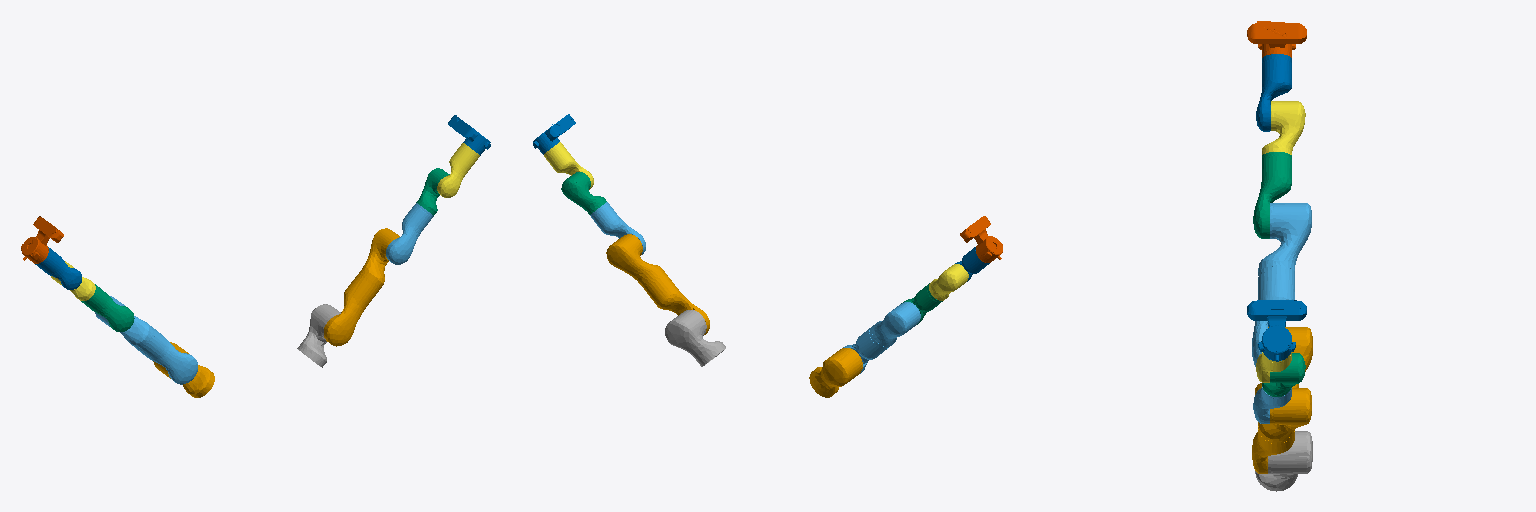
--- Render facts (derived) ---
The picture shows the robot from 3 angles, left to right: view 1: azimuth 30°, elevation 25°; view 2: azimuth 150°, elevation 25°; view 3: azimuth 270°, elevation 25°; orthographic projection.
Robot: overseas_65_b_v_description — 22 links, 21 joints (14 revolute, 1 prismatic, 6 fixed); root link base_link_underpan; default pose: all joints at 0.
Links seen in each view (by area): view 1: l_link2, r_link2, l_link3, l_link1, r_link3, l_link5, r_link6, r_link5, r_link1, l_link4, l_link6; view 2: l_link2, r_link2, l_link1, r_link1, r_link6, l_link4, l_link3, r_link4, l_link5, l_link6; view 3: r_link2, l_link2, l_link6, r_link3, l_link1, r_link5, r_link6, r_link4, l_link4, l_link3, r_link1, l_link5.
Link boxes in pixels (bbox=[...]): l_link2: bbox=[324, 228, 399, 346]; r_link2: bbox=[95, 296, 197, 384]; l_link3: bbox=[386, 203, 433, 264]; l_link1: bbox=[297, 304, 340, 367]; r_link3: bbox=[81, 284, 134, 331]; l_link5: bbox=[437, 143, 479, 197]; r_link6: bbox=[21, 216, 63, 263]; r_link5: bbox=[35, 247, 81, 289]; r_link1: bbox=[153, 342, 214, 397]; l_link4: bbox=[416, 168, 449, 215]; l_link6: bbox=[448, 115, 490, 155]; l_link2: bbox=[606, 234, 709, 334]; r_link2: bbox=[843, 302, 920, 373]; l_link1: bbox=[665, 310, 725, 366]; r_link1: bbox=[809, 348, 862, 397]; r_link6: bbox=[960, 216, 1002, 262]; l_link4: bbox=[561, 172, 606, 214]; l_link3: bbox=[590, 202, 645, 254]; r_link4: bbox=[929, 264, 968, 300]; l_link5: bbox=[544, 142, 593, 189]; l_link6: bbox=[533, 114, 575, 154]; r_link2: bbox=[1252, 203, 1311, 366]; l_link2: bbox=[1252, 388, 1311, 473]; l_link6: bbox=[1247, 300, 1306, 361]; r_link3: bbox=[1253, 152, 1291, 238]; l_link1: bbox=[1255, 431, 1312, 491]; r_link5: bbox=[1256, 54, 1291, 131]; r_link6: bbox=[1247, 21, 1306, 57]; r_link4: bbox=[1262, 101, 1305, 154]; l_link4: bbox=[1262, 353, 1305, 396]; l_link3: bbox=[1253, 387, 1291, 423]; r_link1: bbox=[1255, 327, 1312, 394]; l_link5: bbox=[1256, 352, 1291, 382].
Bounding box of the posed robot: 1.39 × 0.124 × 0.6018 m (x, y, z).
12 mesh visuals loaded from 21 distinct referenced files (12 binary STL); not drawn: 10 (reference not matched to a file when rendering).

robot.urdf — overseas_65_b_v_description:
<?xml version="1.0" encoding="utf-8"?>
<!-- This URDF was automatically created by SolidWorks to URDF Exporter! Originally created by Stephen Brawner ([email redacted]) 
     Commit Version: 1.6.0-4-g7f85cfe  Build Version: 1.6.7995.38578
     For more information, please see http://wiki.ros.org/sw_urdf_exporter -->
<robot
  name="overseas_65_b_v_description">
  <link
    name="base_link_underpan">
    <inertial>
      <origin
        xyz="-0.012628 -0.016092 -0.060646"
        rpy="0 0 0" />
      <mass
        value="2.5521" />
      <inertia
        ixx="0.066197"
        ixy="7.0297E-05"
        ixz="0.00017628"
        iyy="0.034903"
        iyz="-0.00059595"
        izz="0.097938" />
    </inertial>
    <visual>
      <origin
        xyz="0 0 0"
        rpy="0 0 0" />
      <geometry>
        <mesh
          filename="meshes/base_link_underpan.STL" />
      </geometry>
      
    </visual>
    <collision>
      <origin
        xyz="0 0 0"
        rpy="0 0 0" />
      <geometry>
        <mesh
          filename="meshes/base_link_underpan.STL" />
      </geometry>
    </collision>
  </link>

  <link
    name="body_base_link">
    <inertial>
      <origin
        xyz="-0.0002128 -0.02749 0.37118"
        rpy="0 0 0" />
      <mass
        value="12.159" />
      <inertia
        ixx="0.69175"
        ixy="3.0303E-06"
        ixz="-1.7947E-05"
        iyy="0.68839"
        iyz="0.012363"
        izz="0.15316" />
    </inertial>
    <visual>
      <origin
        xyz="0 0 0"
        rpy="0 0 0" />
      <geometry>
        <mesh
          filename="meshes/body_base_link.STL" />
      </geometry>

    </visual>
    <collision>
      <origin
        xyz="0 0 0"
        rpy="0 0 0" />
      <geometry>
        <mesh
          filename="meshes/body_base_link.STL" />
      </geometry>
    </collision>
  </link>
  
  
  
  
  
  <joint
    name="body_base_joint"
    type="fixed">
    <origin
      xyz="0 0 0"
      rpy="0 0 0" />
    <parent
      link="base_link_underpan" />
    <child
      link="body_base_link" />
    <axis
      xyz="1 0 0" />
    <limit
      effort="0"
      velocity="0" />
  </joint>  
  
  
  
  
  
  
  
  
  <link
    name="platform_base_link">
    <inertial>
      <origin
        xyz="-4.8033E-05 -0.05292 0.00070789"
        rpy="0 0 0" />
      <mass
        value="2.8992" />
      <inertia
        ixx="0.013327"
        ixy="3.14E-06"
        ixz="3.5257E-06"
        iyy="0.032331"
        iyz="6.163E-05"
        izz="0.021546" />
    </inertial>
    <visual>
      <origin
        xyz="0 0 0"
        rpy="0 0 0" />
      <geometry>
        <mesh
          filename="meshes/platform_base_link.STL" />
      </geometry>

    </visual>
    <collision>
      <origin
        xyz="0 0 0"
        rpy="0 0 0" />
      <geometry>
        <mesh
          filename="meshes/platform_base_link.STL" />
      </geometry>
    </collision>
  </link>
  <joint
    name="platform_joint"
    type="prismatic">
    <origin
      xyz="0 -0.11663 1.271"
      rpy="0 0 0" />
    <parent
      link="body_base_link" />
    <child
      link="platform_base_link" />
    <axis
      xyz="0 0 -1" />
    <limit
      lower="0"
      upper="1"
      effort="60"
      velocity="0.15" />
  </joint>
  <link
    name="head_link1">
    <inertial>
      <origin
        xyz="-0.00017562 -0.015989 0.024926"
        rpy="0 0 0" />
      <mass
        value="0.049513" />
      <inertia
        ixx="1.6251E-05"
        ixy="-4.4281E-09"
        ixz="7.808E-08"
        iyy="2.2171E-05"
        iyz="-4.661E-07"
        izz="1.3605E-05" />
    </inertial>
    <visual>
      <origin
        xyz="0 0 0"
        rpy="0 0 0" />
      <geometry>
        <mesh
          filename="meshes/head_link1.STL" />
      </geometry>

    </visual>
    <collision>
      <origin
        xyz="0 0 0"
        rpy="0 0 0" />
      <geometry>
        <mesh
          filename="meshes/head_link1.STL" />
      </geometry>
    </collision>
  </link>
  <joint
    name="head_joint1"
    type="revolute">
    <origin
      xyz="0 -0.1018 0.126"
      rpy="0 0 0" />
    <parent
      link="platform_base_link" />
    <child
      link="head_link1" />
    <axis
      xyz="0 0 1" />
    <limit
      lower="-1.256"
      upper="1.256"
      effort="2"
      velocity="1.57" />
  </joint>
  <link
    name="head_link2">
    <inertial>
      <origin
        xyz="-0.00051349 -0.027144 0.0551"
        rpy="0 0 0" />
      <mass
        value="0.23639" />
      <inertia
        ixx="0.00025664"
        ixy="-1.6537E-08"
        ixz="1.3993E-07"
        iyy="0.0005615"
        iyz="1.8036E-05"
        izz="0.00052625" />
    </inertial>
    <visual>
      <origin
        xyz="0 0 0"
        rpy="0 0 0" />
      <geometry>
        <mesh
          filename="meshes/head_link2.STL" />
      </geometry>

    </visual>
    <collision>
      <origin
        xyz="0 0 0"
        rpy="0 0 0" />
      <geometry>
        <mesh
          filename="meshes/head_link2.STL" />
      </geometry>
    </collision>
  </link>
  <joint
    name="head_joint2"
    type="revolute">
    <origin
      xyz="0 -0.02 0.044"
      rpy="0 0 0" />
    <parent
      link="head_link1" />
    <child
      link="head_link2" />
    <axis
      xyz="-1 0 0" />
    <limit
      lower="-0.419"
      upper="0.419"
      effort="2"
      velocity="1.57" />
  </joint>
  <link
    name="camera_link">
    <inertial>
      <origin
        xyz="0.0016556 -0.01252 1.2156E-05"
        rpy="0 0 0" />
      <mass
        value="0.049778" />
      <inertia
        ixx="4.8577E-06"
        ixy="4.3442E-07"
        ixz="-6.2436E-10"
        iyy="3.075E-05"
        iyz="6.4645E-10"
        izz="3.0901E-05" />
    </inertial>
    <visual>
      <origin
        xyz="0 0 0"
        rpy="0 0 0" />
      <geometry>
        <mesh
          filename="meshes/camera_link.STL" />
      </geometry>

    </visual>
    <collision>
      <origin
        xyz="0 0 0"
        rpy="0 0 0" />
      <geometry>
        <mesh
          filename="meshes/camera_link.STL" />
      </geometry>
    </collision>
  </link>
  <joint
    name="camera_joint"
    type="fixed">
    <origin
      xyz="-0.0032391 -0.051866 0.061606"
      rpy="0 0 0" />
    <parent
      link="head_link2" />
    <child
      link="camera_link" />
    <axis
      xyz="0 0 0" />
  </joint>
  <link
    name="l_base_link1">
    <inertial>
      <origin
        xyz="-3.58E-05 -0.0056915 0.024464"
        rpy="0 0 0" />
      <mass
        value="0.23441" />
      <inertia
        ixx="0.00027369"
        ixy="6.5702E-08"
        ixz="2.7812E-09"
        iyy="0.000264"
        iyz="-1.6355E-06"
        izz="0.00036679" />
    </inertial>
    <visual>
      <origin
        xyz="0 0 0"
        rpy="0 0 0" />
      <geometry>
        <mesh
          filename="meshes/l_base_link1.STL" />
      </geometry>

    </visual>
    <collision>
      <origin
        xyz="0 0 0"
        rpy="0 0 0" />
      <geometry>
        <mesh
          filename="meshes/l_base_link1.STL" />
      </geometry>
    </collision>
  </link>
  <joint
    name="l_base_joint1"
    type="fixed">
    <origin
      xyz="0.1 -0.1103 0.031645"
      rpy="0 -0.7854 3.1415" />
    <parent
      link="platform_base_link" />
    <child
      link="l_base_link1" />
    <axis
      xyz="0 0 0" />
  </joint>
  <link
    name="r_base_link1">
    <inertial>
      <origin
        xyz="-4.8022E-05 0.0056915 0.024715"
        rpy="0 0 0" />
      <mass
        value="0.23441" />
      <inertia
        ixx="0.00027369"
        ixy="6.5702E-08"
        ixz="-3.2599E-09"
        iyy="0.000264"
        iyz="1.6355E-06"
        izz="0.00036679" />
    </inertial>
    <visual>
      <origin
        xyz="0 0 0"
        rpy="0 0 0" />
      <geometry>
        <mesh
          filename="meshes/r_base_link1.STL" />
      </geometry>

    </visual>
    <collision>
      <origin
        xyz="0 0 0"
        rpy="0 0 0" />
      <geometry>
        <mesh
          filename="meshes/r_base_link1.STL" />
      </geometry>
    </collision>
  </link>
  <joint
    name="r_base_joint1"
    type="fixed">
    <origin
      xyz="-0.1 -0.1103 0.031645"
      rpy="0 -0.7854 0" />
    <parent
      link="platform_base_link" />
    <child
      link="r_base_link1" />
    <axis
      xyz="0 0 0" />
  </joint>  
  
  
  
  
  
  
 
  <link
    name="r_link1">
    <inertial>
      <origin
        xyz="-2.8998E-07 0.021107 -0.025188"
        rpy="0 0 0" />
      <mass
        value="0.59353" />
      <inertia
        ixx="0.0012661"
        ixy="-5.3526E-09"
        ixz="-2.0479E-09"
        iyy="0.0011816"
        iyz="-0.00021118"
        izz="0.00056131" />
    </inertial>
    <visual>
      <origin
        xyz="0 0 0"
        rpy="0 0 0" />
      <geometry>
        <mesh
          filename="meshes/r_link1.STL" />
      </geometry>

    </visual>
    <collision>
      <origin
        xyz="0 0 0"
        rpy="0 0 0" />
      <geometry>
        <mesh
          filename="meshes/r_link1.STL" />
      </geometry>
    </collision>
  </link>
  <joint
    name="r_joint1"
    type="revolute">
    <origin
      xyz="0 0 0.187"
      rpy="0 0 0" />
    <parent
      link="r_base_link1" />
    <child
      link="r_link1" />
    <axis
      xyz="0 0 1" />
    <limit
      lower="-3.11"
      upper="3.11"
      effort="60"
      velocity="3.14" />
  </joint>
  <link
    name="r_link2">
    <inertial>
      <origin
        xyz="0.15226 2.505E-07 -0.0062027"
        rpy="0 0 0" />
      <mass
        value="0.86416" />
      <inertia
        ixx="0.00063253"
        ixy="1.9052E-09"
        ixz="0.00042162"
        iyy="0.0020527"
        iyz="3.5874E-09"
        izz="0.0019528" />
    </inertial>
    <visual>
      <origin
        xyz="0 0 0"
        rpy="0 0 0" />
      <geometry>
        <mesh
          filename="meshes/r_link2.STL" />
      </geometry>

    </visual>
    <collision>
      <origin
        xyz="0 0 0"
        rpy="0 0 0" />
      <geometry>
        <mesh
          filename="meshes/r_link2.STL" />
      </geometry>
    </collision>
  </link>
  <joint
    name="r_joint2"
    type="revolute">
    <origin
      xyz="0 0 0"
      rpy="1.5708 -1.5708 0" />
    <parent
      link="r_link1" />
    <child
      link="r_link2" />
    <axis
      xyz="0 0 1" />
    <limit
      lower="-2.27"
      upper="2.27"
      effort="60"
      velocity="3.14" />
  </joint>
  <link
    name="r_link3">
    <inertial>
      <origin
        xyz="4.7421E-06 -0.059592 0.010268"
        rpy="0 0 0" />
      <mass
        value="0.28963" />
      <inertia
        ixx="0.00063737"
        ixy="-6.2554E-08"
        ixz="-3.5031E-08"
        iyy="0.00015649"
        iyz="-0.00014461"
        izz="0.00061418" />
    </inertial>
    <visual>
      <origin
        xyz="0 0 0"
        rpy="0 0 0" />
      <geometry>
        <mesh
          filename="meshes/r_link3.STL" />
      </geometry>

    </visual>
    <collision>
      <origin
        xyz="0 0 0"
        rpy="0 0 0" />
      <geometry>
        <mesh
          filename="meshes/r_link3.STL" />
      </geometry>
    </collision>
  </link>
  <joint
    name="r_joint3"
    type="revolute">
    <origin
      xyz="0.256 0 0"
      rpy="0 0 1.5708" />
    <parent
      link="r_link2" />
    <child
      link="r_link3" />
    <axis
      xyz="0 0 1" />
    <limit
      lower="-2.36"
      upper="2.36"
      effort="30"
      velocity="3.925" />
  </joint>
  <link
    name="r_link4">
    <inertial>
      <origin
        xyz="2.9088E-07 -0.018042 -0.02154"
        rpy="0 0 0" />
      <mass
        value="0.23942" />
      <inertia
        ixx="0.00028595"
        ixy="-2.3541E-09"
        ixz="1.386E-09"
        iyy="0.00026273"
        iyz="4.424E-05"
        izz="0.0001199" />
    </inertial>
    <visual>
      <origin
        xyz="0 0 0"
        rpy="0 0 0" />
      <geometry>
        <mesh
          filename="meshes/r_link4.STL" />
      </geometry>

    </visual>
    <collision>
      <origin
        xyz="0 0 0"
        rpy="0 0 0" />
      <geometry>
        <mesh
          filename="meshes/r_link4.STL" />
      </geometry>
    </collision>
  </link>
  <joint
    name="r_joint4"
    type="revolute">
    <origin
      xyz="0 -0.21 -0.00030007"
      rpy="1.5708 0 0" />
    <parent
      link="r_link3" />
    <child
      link="r_link4" />
    <axis
      xyz="0 0 1" />
    <limit
      lower="-3.11"
      upper="3.11"
      effort="10"
      velocity="3.925" />
  </joint>
  <link
    name="r_link5">
    <inertial>
      <origin
        xyz="4.2478E-06 -0.059381 0.007067"
        rpy="0 0 0" />
      <mass
        value="0.21879" />
      <inertia
        ixx="0.00035053"
        ixy="-2.8579E-08"
        ixz="-1.655E-08"
        iyy="0.00010492"
        iyz="-7.824E-05"
        izz="0.00033447" />
    </inertial>
    <visual>
      <origin
        xyz="0 0 0"
        rpy="0 0 0" />
      <geometry>
        <mesh
          filename="meshes/r_link5.STL" />
      </geometry>

    </visual>
    <collision>
      <origin
        xyz="0 0 0"
        rpy="0 0 0" />
      <geometry>
        <mesh
          filename="meshes/r_link5.STL" />
      </geometry>
    </collision>
  </link>
  <joint
    name="r_joint5"
    type="revolute">
    <origin
      xyz="0 0 0"
      rpy="-1.5708 0 0" />
    <parent
      link="r_link4" />
    <child
      link="r_link5" />
    <axis
      xyz="0 0 1" />
    <limit
      lower="-2.23"
      upper="2.23"
      effort="10"
      velocity="3.925" />
  </joint>
  <link
    name="r_link6">
    <inertial>
      <origin
        xyz="-0.028764 5.1464E-06 0.02806"
        rpy="0 0 0" />
      <mass
        value="0.22147" />
      <inertia
        ixx="0.0001376"
        ixy="-5.7488E-08"
        ixz="1.6634E-05"
        iyy="0.00026855"
        iyz="-1.7799E-08"
        izz="0.00035277" />
    </inertial>
    <visual>
      <origin
        xyz="0 0 0"
        rpy="0 0 0" />
      <geometry>
        <mesh
          filename="meshes/r_link6.STL" />
      </geometry>

    </visual>
    <collision>
      <origin
        xyz="0 0 0"
        rpy="0 0 0" />
      <geometry>
        <mesh
          filename="meshes/r_link6.STL" />
      </geometry>
    </collision>
  </link>
  <joint
    name="r_joint6"
    type="revolute">
    <origin
      xyz="0 -0.11203 -0.00029971"
      rpy="1.5708 0 0" />
    <parent
      link="r_link5" />
    <child
      link="r_link6" />
    <axis
      xyz="0 0 1" />
    <limit
      lower="-6.28"
      upper="6.28"
      effort="10"
      velocity="3.925" />
  </joint>


  <joint
    name="r_hand_joint"
    type="fixed">
    <origin
      xyz="0 0 0.0445"
      rpy="0 0 0" />
    <parent
      link="r_link6" />
    <child
      link="r_gripper_base_link" />
    <axis
      xyz="0 0 -1" />
    <limit
      lower="0"
      upper="0"
      effort="0"
      velocity="0" />
  </joint>  
  
  <link name="r_gripper_base_link">
    <visual>
        <geometry>
          <mesh filename="visual/base_link.STL"  scale = "0.001 0.001 0.001"/>
        </geometry>
    </visual>
    <collision>
        <geometry>
            <mesh filename="visual/base_link.STL"  scale = "0.001 0.001 0.001"/>
        </geometry>
    </collision>
        <inertial>
          <mass value="0.83416" />
            <origin xyz="0.0 0.0 0.0" />
              <inertia ixx = "0.0013016" ixy = "-6.9374e-07" ixz = "5.9848e-07"
                       iyx = "0.000000" iyy = "0.00049972" iyz = "2.0244E-07"
                       izx = "0.000000" izy = "0.000000" izz = "0.001498" />
       </inertial>
    </link>
  <!-- <joint name="r_gripper_finger1_joint" type="revolute">
    <parent link="r_gripper_base_link"/>
    <child link="r_gripper_finger1_knuckle_link"/>
      <axis xyz="0 -1 0"/>
      <origin rpy="0.0 0.0 3.14" xyz="-0.016 0 0.10586"/>
      <limit lower="0.0" upper="0.6524" velocity="2.0" effort="1000"/>
  </joint>
  <joint name="r_gripper_finger2_joint" type="revolute">
    <parent link="r_gripper_base_link"/>
    <child link="r_gripper_finger2_knuckle_link"/>
    <axis xyz="0 -1 0"/>
    <origin rpy="0.0 0.0 0.0" xyz="0.016  0 0.10586 "/>
    <limit lower="-3.14" upper="3.14" velocity="100.0" effort="1000"/>
    <mimic joint="r_gripper_finger1_joint"/>
  </joint>
  <link name="r_gripper_finger1_knuckle_link">
            <visual>
                <geometry>
                    <mesh filename="visual/crank_Link.STL"  scale = "0.001 0.001 0.001"/>
                </geometry>
            </visual>
            <collision>
                <geometry>
                    <mesh filename="visual/crank_Link.STL"  scale = "0.001 0.001 0.001"/>
                </geometry>
            </collision>
            <inertial>
                <mass value="0.011111" />
                <origin xyz="0.0 0.0 0.0" />
                <inertia ixx = "3.88172e-06" ixy = "-2.29456e-13" ixz = "8.33e-07"
                         iyx = "0.000000" iyy = "1.92174e-06" iyz = "2.04435e-13"
                         izx = "0.000000" izy = "0.000000" izz = "4.32374e-06" />
            </inertial>
        </link>
  <link name="r_gripper_finger2_knuckle_link">
            <visual>
                <geometry>
                    <mesh filename="visual/crank_Link.STL"  scale = "0.001 0.001 0.001"/>
                </geometry>
            </visual>
            <collision>
                <geometry>
                    <mesh filename="visual/crank_Link.STL"  scale = "0.001 0.001 0.001"/>
                </geometry>
            </collision>
            <inertial>
                <mass value="0.011111" />
                <origin xyz="0.0 0.0 0.0" />
                <inertia ixx = "3.88172e-06" ixy = "-2.29456e-13" ixz = "8.33e-07"
                         iyx = "0.000000" iyy = "1.92174e-06" iyz = "2.04435e-13"
                         izx = "0.000000" izy = "0.000000" izz = "4.32374e-06" />
            </inertial>
        </link>
        <joint name="r_gripper_finger1_finger_joint" type="continuous">
            <parent link="r_gripper_finger1_knuckle_link"/>
            <child link="r_gripper_finger1_finger_link"/>
            <axis xyz="0 -1 0"/>
            <origin xyz="0.0292080077784 0.0 -0.0227132622407" rpy="0 0 0" />
            <limit lower="-3.14" upper="3.14" velocity="100.0" effort="0.1"/>
            <mimic joint="r_gripper_finger1_joint" multiplier="0.4563942" offset="0"/>
        </joint>

        <joint name="r_gripper_finger2_finger_joint" type="continuous">
            <parent link="r_gripper_finger2_knuckle_link"/>
            <child link="r_gripper_finger2_finger_link"/>
            <axis xyz="0 -1 0"/>
            <origin xyz="0.0292080077784 0.0 -0.0227132622407" rpy="0 0 0" />
            <limit lower="-3.14" upper="3.14" velocity="100.0" effort="0.1"/>
            <mimic joint="r_gripper_finger1_joint" multiplier="0.4563942" offset="0"/>
        </joint>
  <link name="r_gripper_finger1_finger_link">
            <visual>
                <geometry>
                    <mesh filename="visual/rod_Link.STL"  scale = "0.001 0.001 0.001"/>
                </geometry>
            </visual>
            <collision>
                <geometry>
                    <mesh filename="visual/rod_Link.STL"  scale = "0.001 0.001 0.001"/>
                </geometry>
            </collision>
            <inertial>
                <mass value="0.0222871" />
                <origin xyz="0.0 0.0 0.0" />
                <inertia ixx = "8.72836e-06" ixy = "7.0843e-15" ixz = "-2.18833e-06"
                         iyx = "-0.000002" iyy = "7.26157e-06" iyz = "7.6579e-15"
                         izx = "0.000000" izy = "0.000000" izz = "3.3425e-06" />
            </inertial>
        </link>
  <link name="r_gripper_finger2_finger_link">
<visual>
                <geometry>
                    <mesh filename="visual/rod_Link.STL"  scale = "0.001 0.001 0.001"/>
                </geometry>
            </visual>
            <collision>
                <geometry>
                    <mesh filename="visual/rod_Link.STL"  scale = "0.001 0.001 0.001"/>
                </geometry>
            </collision>
            <inertial>
                <mass value="0.0222871" />
                <origin xyz="0.0 0.0 0.0" />
                <inertia ixx = "8.72836e-06" ixy = "7.0843e-15" ixz = "-2.18833e-06"
                         iyx = "-0.000002" iyy = "7.26157e-06" iyz = "7.6579e-15"
                         izx = "0.000000" izy = "0.000000" izz = "3.3425e-06" />
            </inertial>
        </link>

  <joint name="r_gripper_finger1_inner_knuckle_joint" type="continuous">
    <parent link="r_gripper_base_link"/>
    <child link="r_gripper_finger1_inner_knuckle_link"/>
            <axis xyz="0 -1 0"/>
            <origin rpy="0.0 0.0 3.14" xyz="-0.016 0 0.10586"/>
            <limit lower="-3.14" upper="3.14" velocity="100.0" effort="0.1"/>
            <mimic joint="r_gripper_finger1_joint" multiplier="1.49462955"  offset="0"/>
 </joint>
  <joint name="r_gripper_finger2_inner_knuckle_joint" type="continuous">
    <parent link="r_gripper_base_link"/>
    <child link="r_gripper_finger2_inner_knuckle_link"/>
            <axis xyz="0 -1 0"/>
            <origin rpy="0.0 0.0 0.0" xyz="0.016 0 0.10586"/>
            <limit lower="-3.14" upper="3.14" velocity="100.0" effort="0.1"/>
            <mimic joint="r_gripper_finger1_joint" multiplier="1.49462955"  offset="0"/>
  </joint>
     <link name="r_gripper_finger1_inner_knuckle_link">
            <visual>
                <geometry>
                    <mesh filename="visual/proximal_phalanx_Link.STL"  scale = "0.001 0.001 0.001"/>
                </geometry>
            </visual>
            <collision>
                <geometry>
                    <mesh filename="visual/proximal_phalanx_Link.STL"  scale = "0.001 0.001 0.001"/>
                </geometry>
            </collision>
            <inertial>
                <mass value="0.0318004" />
                <origin xyz="0.0 0.0 0.0" />
                <inertia ixx = "1.39848e-05" ixy = "-9.54763e-15" ixz = "-5.01422e-06"
                         iyx = "0.000000" iyy = "1.04943e-05" iyz = "8.94585e-16"
                         izx = "0.000000" izy = "0.000000" izz = "1.36183e-05" />
            </inertial>
      </link>
<link name="r_gripper_finger2_inner_knuckle_link">
            <visual>
                <geometry>
                    <mesh filename="visual/proximal_phalanx_Link.STL"  scale = "0.001 0.001 0.001"/>
                </geometry>
            </visual>
            <collision>
                <geometry>
                    <mesh filename="visual/proximal_phalanx_Link.STL"  scale = "0.001 0.001 0.001"/>
                </geometry>
            </collision>
            <inertial>
                <mass value="0.0318004" />
                <origin xyz="0.0 0.0 0.0" />
                <inertia ixx = "1.39848e-05" ixy = "-9.54763e-15" ixz = "-5.01422e-06"
                         iyx = "0.000000" iyy = "1.04943e-05" iyz = "8.94585e-16"
                         izx = "0.000000" izy = "0.000000" izz = "1.36183e-05" />
            </inertial>
        </link>
<joint name="r_gripper_finger1_finger_tip_joint" type="continuous">
    <parent link="r_gripper_finger1_inner_knuckle_link"/>
    <child link="r_gripper_finger1_finger_tip_link"/>
            <axis xyz="0 1 0"/>
            <origin xyz="0.0394969463769 0.0 0.0382752038125 " rpy="0.0 0.0 0.0"/>
            <limit lower="-3.14" upper="3.14" velocity="100.0" effort="0.1"/>
            <mimic joint="r_gripper_finger1_joint" multiplier="1.49462955"/>
        </joint>
  <joint name="r_gripper_finger2_finger_tip_joint" type="continuous">
    <parent link="r_gripper_finger2_inner_knuckle_link"/>
    <child link="r_gripper_finger2_finger_tip_link"/>
            <axis xyz="0 1 0"/>
            <origin rpy="0.0 0.0 0.0" xyz="0.0394969463769  0.0 0.0382752038125  "/>
            <limit lower="-3.14" upper="3.14" velocity="100.0" effort="0.1"/>
            <mimic joint="l_gripper_finger1_joint" multiplier="1.49462955"/>
  </joint>
  <link name="r_gripper_finger1_finger_tip_link">
            <visual>
                <geometry>
                    <mesh filename="visual/distal_phalanx_Link.STL"  scale = "0.001 0.001 0.001"/>
                </geometry>
            </visual>
            <collision>
                <geometry>
                    <mesh filename="visual/distal_phalanx_Link.STL"  scale = "0.001 0.001 0.001"/>
                </geometry>
            </collision>
            <inertial>
                <mass value="0.0124305" />
                <origin xyz="0.0 0.0 0.0" />
                <inertia ixx = "2.84217e-06" ixy = "-2.48048e-15" ixz = "8.24539e-07"
                         iyx = "0.000000" iyy = "3.03961e-06" iyz = "2.16427e-13"
                         izx = "0.000000" izy = "0.000000" izz = "1.11815e-06" />
            </inertial>
        </link> 
  <link name="r_gripper_finger2_finger_tip_link">
            <visual>
                <geometry>
                    <mesh filename="visual/distal_phalanx_Link.STL"  scale = "0.001 0.001 0.001"/>
                </geometry>
            </visual>
            <collision>
                <geometry>
                    <mesh filename="visual/distal_phalanx_Link.STL"  scale = "0.001 0.001 0.001"/>
                </geometry>
            </collision>
            <inertial>
                <mass value="0.0124305" />
                <origin xyz="0.0 0.0 0.0" />
                <inertia ixx = "2.84217e-06" ixy = "-2.48048e-15" ixz = "8.24539e-07"
                         iyx = "0.000000" iyy = "3.03961e-06" iyz = "2.16427e-13"
                         izx = "0.000000" izy = "0.000000" izz = "1.11815e-06" />
            </inertial>
        </link>  -->
  
 
  <link
    name="l_link1">
    <inertial>
      <origin
        xyz="-2.9675E-07 0.021107 -0.025188"
        rpy="0 0 0" />
      <mass
        value="0.59353" />
      <inertia
        ixx="0.0012661"
        ixy="-5.363E-09"
        ixz="-2.109E-09"
        iyy="0.0011816"
        iyz="-0.00021118"
        izz="0.00056131" />
    </inertial>
    <visual>
      <origin
        xyz="0 0 0"
        rpy="0 0 0" />
      <geometry>
        <mesh
          filename="meshes/l_link1.STL" />
      </geometry>

    </visual>
    <collision>
      <origin
        xyz="0 0 0"
        rpy="0 0 0" />
      <geometry>
        <mesh
          filename="meshes/l_link1.STL" />
      </geometry>
    </collision>
  </link>
  <joint
    name="l_joint1"
    type="revolute">
    <origin
      xyz="0 0 0.187"
      rpy="0 0 3.1415" />
    <parent
      link="l_base_link1" />
    <child
      link="l_link1" />
    <axis
      xyz="0 0 1" />
    <limit
      lower="-3.11"
      upper="3.11"
      effort="60"
      velocity="3.14" />
  </joint>
  <link
    name="l_link2">
    <inertial>
      <origin
        xyz="0.15226 2.3916E-07 -0.0062027"
        rpy="0 0 0" />
      <mass
        value="0.86416" />
      <inertia
        ixx="0.00063253"
        ixy="2.0103E-09"
        ixz="0.00042162"
        iyy="0.0020527"
        iyz="3.5857E-09"
        izz="0.0019528" />
    </inertial>
    <visual>
      <origin
        xyz="0 0 0"
        rpy="0 0 0" />
      <geometry>
        <mesh
          filename="meshes/l_link2.STL" />
      </geometry>

    </visual>
    <collision>
      <origin
        xyz="0 0 0"
        rpy="0 0 0" />
      <geometry>
        <mesh
          filename="meshes/l_link2.STL" />
      </geometry>
    </collision>
  </link>
  <joint
    name="l_joint2"
    type="revolute">
    <origin
      xyz="0 0 0"
      rpy="1.5708 -1.5708 0" />
    <parent
      link="l_link1" />
    <child
      link="l_link2" />
    <axis
      xyz="0 0 1" />
    <limit
      lower="-2.27"
      upper="2.27"
      effort="60"
      velocity="3.14" />
  </joint>
  <link
    name="l_link3">
    <inertial>
      <origin
        xyz="4.7194E-06 -0.059592 0.010268"
        rpy="0 0 0" />
      <mass
        value="0.28963" />
      <inertia
        ixx="0.00063737"
        ixy="-6.2601E-08"
        ixz="-3.5046E-08"
        iyy="0.00015649"
        iyz="-0.00014461"
        izz="0.00061418" />
    </inertial>
    <visual>
      <origin
        xyz="0 0 0"
        rpy="0 0 0" />
      <geometry>
        <mesh
          filename="meshes/l_link3.STL" />
      </geometry>

    </visual>
    <collision>
      <origin
        xyz="0 0 0"
        rpy="0 0 0" />
      <geometry>
        <mesh
          filename="meshes/l_link3.STL" />
      </geometry>
    </collision>
  </link>
  <joint
    name="l_joint3"
    type="revolute">
    <origin
      xyz="0.256 0 0"
      rpy="0 0 1.5708" />
    <parent
      link="l_link2" />
    <child
      link="l_link3" />
    <axis
      xyz="0 0 1" />
    <limit
      lower="-2.36"
      upper="2.36"
      effort="30"
      velocity="3.925" />
  </joint>
  <link
    name="l_link4">
    <inertial>
      <origin
        xyz="2.9186E-07 -0.018042 -0.02154"
        rpy="0 0 0" />
      <mass
        value="0.23942" />
      <inertia
        ixx="0.00028595"
        ixy="-2.3562E-09"
        ixz="1.3938E-09"
        iyy="0.00026273"
        iyz="4.424E-05"
        izz="0.0001199" />
    </inertial>
    <visual>
      <origin
        xyz="0 0 0"
        rpy="0 0 0" />
      <geometry>
        <mesh
          filename="meshes/l_link4.STL" />
      </geometry>

    </visual>
    <collision>
      <origin
        xyz="0 0 0"
        rpy="0 0 0" />
      <geometry>
        <mesh
          filename="meshes/l_link4.STL" />
      </geometry>
    </collision>
  </link>
  <joint
    name="l_joint4"
    type="revolute">
    <origin
      xyz="0 -0.21 -0.00030007"
      rpy="1.5708 0 0" />
    <parent
      link="l_link3" />
    <child
      link="l_link4" />
    <axis
      xyz="0 0 1" />
    <limit
      lower="-3.11"
      upper="3.11"
      effort="10"
      velocity="3.925" />
  </joint>
  <link
    name="l_link5">
    <inertial>
      <origin
        xyz="4.2301E-06 -0.059381 0.0070671"
        rpy="0 0 0" />
      <mass
        value="0.21879" />
      <inertia
        ixx="0.00035053"
        ixy="-2.8554E-08"
        ixz="-1.67E-08"
        iyy="0.00010492"
        iyz="-7.824E-05"
        izz="0.00033447" />
    </inertial>
    <visual>
      <origin
        xyz="0 0 0"
        rpy="0 0 0" />
      <geometry>
        <mesh
          filename="meshes/l_link5.STL" />
      </geometry>

    </visual>
    <collision>
      <origin
        xyz="0 0 0"
        rpy="0 0 0" />
      <geometry>
        <mesh
          filename="meshes/l_link5.STL" />
      </geometry>
    </collision>
  </link>
  <joint
    name="l_joint5"
    type="revolute">
    <origin
      xyz="0 0 0"
      rpy="-1.5708 0 0" />
    <parent
      link="l_link4" />
    <child
      link="l_link5" />
    <axis
      xyz="0 0 1" />
    <limit
      lower="-2.23"
      upper="2.23"
      effort="10"
      velocity="3.925" />
  </joint>
  <link
    name="l_link6">
    <inertial>
      <origin
        xyz="0.028764 -5.1529E-06 0.025085"
        rpy="0 0 0" />
      <mass
        value="0.22147" />
      <inertia
        ixx="0.0001376"
        ixy="-5.7488E-08"
        ixz="-1.6634E-05"
        iyy="0.00026855"
        iyz="1.7799E-08"
        izz="0.00035277" />
    </inertial>
    <visual>
      <origin
        xyz="0 0 0"
        rpy="0 0 0" />
      <geometry>
        <mesh
          filename="meshes/l_link6.STL" />
      </geometry>

    </visual>
    <collision>
      <origin
        xyz="0 0 0"
        rpy="0 0 0" />
      <geometry>
        <mesh
          filename="meshes/l_link6.STL" />
      </geometry>
    </collision>
  </link>
  <joint
    name="l_joint6"
    type="revolute">
    <origin
      xyz="0 -0.115 -0.00029971"
      rpy="1.5708 0 0" />
    <parent
      link="l_link5" />
    <child
      link="l_link6" />
    <axis
      xyz="0 0 1" />
    <limit
      lower="-6.28"
      upper="6.28"
      effort="10"
      velocity="3.925" />
  </joint>



  <joint
    name="l_hand_joint"
    type="fixed">
    <origin
      xyz="0 0 0.0445"
      rpy="0 0 0" />
    <parent
      link="l_link6" />
    <child
      link="l_gripper_base_link" />
    <axis
      xyz="0 0 -1" />
    <limit
      lower="0"
      upper="0"
      effort="0"
      velocity="0" />
  </joint>  

  <link name="l_gripper_base_link">
    <visual>
        <geometry>
          <mesh filename="visual/base_link.STL"  scale = "0.001 0.001 0.001"/>
        </geometry>
    </visual>
    <collision>
        <geometry>
            <mesh filename="visual/base_link.STL"  scale = "0.001 0.001 0.001"/>
        </geometry>
    </collision>
        <inertial>
          <mass value="0.83416" />
            <origin xyz="0.0 0.0 0.0" />
              <inertia ixx = "0.0013016" ixy = "-6.9374e-07" ixz = "5.9848e-07"
                       iyx = "0.000000" iyy = "0.00049972" iyz = "2.0244E-07"
                       izx = "0.000000" izy = "0.000000" izz = "0.001498" />
       </inertial>
    </link>
  <!-- <joint name="l_gripper_finger1_joint" type="revolute">
    <parent link="l_gripper_base_link"/>
    <child link="l_gripper_finger1_knuckle_link"/>
      <axis xyz="0 -1 0"/>
      <origin rpy="0.0 0.0 3.14" xyz="-0.016 0 0.10586"/>
      <limit lower="0.0" upper="0.6524" velocity="2.0" effort="1000"/>
  </joint>
  <joint name="l_gripper_finger2_joint" type="revolute">
    <parent link="l_gripper_base_link"/>
    <child link="l_gripper_finger2_knuckle_link"/>
    <axis xyz="0 -1 0"/>
    <origin rpy="0.0 0.0 0.0" xyz="0.016  0 0.10586 "/>
    <limit lower="-3.14" upper="3.14" velocity="100.0" effort="1000"/>
    <mimic joint="l_gripper_finger1_joint"/>
  </joint>
  <link name="l_gripper_finger1_knuckle_link">
            <visual>
                <geometry>
                    <mesh filename="visual/crank_Link.STL"  scale = "0.001 0.001 0.001"/>
                </geometry>
            </visual>
            <collision>
                <geometry>
                    <mesh filename="visual/crank_Link.STL"  scale = "0.001 0.001 0.001"/>
                </geometry>
            </collision>
            <inertial>
                <mass value="0.011111" />
                <origin xyz="0.0 0.0 0.0" />
                <inertia ixx = "3.88172e-06" ixy = "-2.29456e-13" ixz = "8.33e-07"
                         iyx = "0.000000" iyy = "1.92174e-06" iyz = "2.04435e-13"
                         izx = "0.000000" izy = "0.000000" izz = "4.32374e-06" />
            </inertial>
        </link>
  <link name="l_gripper_finger2_knuckle_link">
            <visual>
                <geometry>
                    <mesh filename="visual/crank_Link.STL"  scale = "0.001 0.001 0.001"/>
                </geometry>
            </visual>
            <collision>
                <geometry>
                    <mesh filename="visual/crank_Link.STL"  scale = "0.001 0.001 0.001"/>
                </geometry>
            </collision>
            <inertial>
                <mass value="0.011111" />
                <origin xyz="0.0 0.0 0.0" />
                <inertia ixx = "3.88172e-06" ixy = "-2.29456e-13" ixz = "8.33e-07"
                         iyx = "0.000000" iyy = "1.92174e-06" iyz = "2.04435e-13"
                         izx = "0.000000" izy = "0.000000" izz = "4.32374e-06" />
            </inertial>
        </link>
        <joint name="l_gripper_finger1_finger_joint" type="continuous">
            <parent link="l_gripper_finger1_knuckle_link"/>
            <child link="l_gripper_finger1_finger_link"/>
            <axis xyz="0 -1 0"/>
            <origin xyz="0.0292080077784 0.0 -0.0227132622407" rpy="0 0 0" />
            <limit lower="-3.14" upper="3.14" velocity="100.0" effort="0.1"/>
            <mimic joint="l_gripper_finger1_joint" multiplier="0.4563942" offset="0"/>
        </joint>

        <joint name="l_gripper_finger2_finger_joint" type="continuous">
            <parent link="l_gripper_finger2_knuckle_link"/>
            <child link="l_gripper_finger2_finger_link"/>
            <axis xyz="0 -1 0"/>
            <origin xyz="0.0292080077784 0.0 -0.0227132622407" rpy="0 0 0" />
            <limit lower="-3.14" upper="3.14" velocity="100.0" effort="0.1"/>
            <mimic joint="l_gripper_finger1_joint" multiplier="0.4563942" offset="0"/>
        </joint>
  <link name="l_gripper_finger1_finger_link">
            <visual>
                <geometry>
                    <mesh filename="visual/rod_Link.STL"  scale = "0.001 0.001 0.001"/>
                </geometry>
            </visual>
            <collision>
                <geometry>
                    <mesh filename="visual/rod_Link.STL"  scale = "0.001 0.001 0.001"/>
                </geometry>
            </collision>
            <inertial>
                <mass value="0.0222871" />
                <origin xyz="0.0 0.0 0.0" />
                <inertia ixx = "8.72836e-06" ixy = "7.0843e-15" ixz = "-2.18833e-06"
                         iyx = "-0.000002" iyy = "7.26157e-06" iyz = "7.6579e-15"
                         izx = "0.000000" izy = "0.000000" izz = "3.3425e-06" />
            </inertial>
        </link>
  <link name="l_gripper_finger2_finger_link">
<visual>
                <geometry>
                    <mesh filename="visual/rod_Link.STL"  scale = "0.001 0.001 0.001"/>
                </geometry>
            </visual>
            <collision>
                <geometry>
                    <mesh filename="visual/rod_Link.STL"  scale = "0.001 0.001 0.001"/>
                </geometry>
            </collision>
            <inertial>
                <mass value="0.0222871" />
                <origin xyz="0.0 0.0 0.0" />
                <inertia ixx = "8.72836e-06" ixy = "7.0843e-15" ixz = "-2.18833e-06"
                         iyx = "-0.000002" iyy = "7.26157e-06" iyz = "7.6579e-15"
                         izx = "0.000000" izy = "0.000000" izz = "3.3425e-06" />
            </inertial>
        </link>

  <joint name="l_gripper_finger1_inner_knuckle_joint" type="continuous">
    <parent link="l_gripper_base_link"/>
    <child link="l_gripper_finger1_inner_knuckle_link"/>
            <axis xyz="0 -1 0"/>
            <origin rpy="0.0 0.0 3.14" xyz="-0.016 0 0.10586"/>
            <limit lower="-3.14" upper="3.14" velocity="100.0" effort="0.1"/>
            <mimic joint="l_gripper_finger1_joint" multiplier="1.49462955"  offset="0"/>
 </joint>
  <joint name="l_gripper_finger2_inner_knuckle_joint" type="continuous">
    <parent link="l_gripper_base_link"/>
    <child link="l_gripper_finger2_inner_knuckle_link"/>
            <axis xyz="0 -1 0"/>
            <origin rpy="0.0 0.0 0.0" xyz="0.016 0 0.10586"/>
            <limit lower="-3.14" upper="3.14" velocity="100.0" effort="0.1"/>
            <mimic joint="l_gripper_finger1_joint" multiplier="1.49462955"  offset="0"/>
  </joint>
     <link name="l_gripper_finger1_inner_knuckle_link">
            <visual>
                <geometry>
                    <mesh filename="visual/proximal_phalanx_Link.STL"  scale = "0.001 0.001 0.001"/>
                </geometry>
            </visual>
            <collision>
                <geometry>
                    <mesh filename="visual/proximal_phalanx_Link.STL"  scale = "0.001 0.001 0.001"/>
                </geometry>
            </collision>
            <inertial>
                <mass value="0.0318004" />
                <origin xyz="0.0 0.0 0.0" />
                <inertia ixx = "1.39848e-05" ixy = "-9.54763e-15" ixz = "-5.01422e-06"
                         iyx = "0.000000" iyy = "1.04943e-05" iyz = "8.94585e-16"
                         izx = "0.000000" izy = "0.000000" izz = "1.36183e-05" />
            </inertial>
      </link>
<link name="l_gripper_finger2_inner_knuckle_link">
            <visual>
                <geometry>
                    <mesh filename="visual/proximal_phalanx_Link.STL"  scale = "0.001 0.001 0.001"/>
                </geometry>
            </visual>
            <collision>
                <geometry>
                    <mesh filename="visual/proximal_phalanx_Link.STL"  scale = "0.001 0.001 0.001"/>
                </geometry>
            </collision>
            <inertial>
                <mass value="0.0318004" />
                <origin xyz="0.0 0.0 0.0" />
                <inertia ixx = "1.39848e-05" ixy = "-9.54763e-15" ixz = "-5.01422e-06"
                         iyx = "0.000000" iyy = "1.04943e-05" iyz = "8.94585e-16"
                         izx = "0.000000" izy = "0.000000" izz = "1.36183e-05" />
            </inertial>
        </link>
<joint name="l_gripper_finger1_finger_tip_joint" type="continuous">
    <parent link="l_gripper_finger1_inner_knuckle_link"/>
    <child link="l_gripper_finger1_finger_tip_link"/>
            <axis xyz="0 1 0"/>
            <origin xyz="0.0394969463769 0.0 0.0382752038125 " rpy="0.0 0.0 0.0"/>
            <limit lower="-3.14" upper="3.14" velocity="100.0" effort="0.1"/>
            <mimic joint="l_gripper_finger1_joint" multiplier="1.49462955"/>
        </joint>
  <joint name="l_gripper_finger2_finger_tip_joint" type="continuous">
    <parent link="l_gripper_finger2_inner_knuckle_link"/>
    <child link="l_gripper_finger2_finger_tip_link"/>
            <axis xyz="0 1 0"/>
            <origin rpy="0.0 0.0 0.0" xyz="0.0394969463769  0.0 0.0382752038125  "/>
            <limit lower="-3.14" upper="3.14" velocity="100.0" effort="0.1"/>
            <mimic joint="l_gripper_finger1_joint" multiplier="1.49462955"/>
  </joint>
  <link name="l_gripper_finger1_finger_tip_link">
            <visual>
                <geometry>
                    <mesh filename="visual/distal_phalanx_Link.STL"  scale = "0.001 0.001 0.001"/>
                </geometry>
            </visual>
            <collision>
                <geometry>
                    <mesh filename="visual/distal_phalanx_Link.STL"  scale = "0.001 0.001 0.001"/>
                </geometry>
            </collision>
            <inertial>
                <mass value="0.0124305" />
                <origin xyz="0.0 0.0 0.0" />
                <inertia ixx = "2.84217e-06" ixy = "-2.48048e-15" ixz = "8.24539e-07"
                         iyx = "0.000000" iyy = "3.03961e-06" iyz = "2.16427e-13"
                         izx = "0.000000" izy = "0.000000" izz = "1.11815e-06" />
            </inertial>
        </link> 
  <link name="l_gripper_finger2_finger_tip_link">
            <visual>
                <geometry>
                    <mesh filename="visual/distal_phalanx_Link.STL"  scale = "0.001 0.001 0.001"/>
                </geometry>
            </visual>
            <collision>
                <geometry>
                    <mesh filename="visual/distal_phalanx_Link.STL"  scale = "0.001 0.001 0.001"/>
                </geometry>
            </collision>
            <inertial>
                <mass value="0.0124305" />
                <origin xyz="0.0 0.0 0.0" />
                <inertia ixx = "2.84217e-06" ixy = "-2.48048e-15" ixz = "8.24539e-07"
                         iyx = "0.000000" iyy = "3.03961e-06" iyz = "2.16427e-13"
                         izx = "0.000000" izy = "0.000000" izz = "1.11815e-06" />
            </inertial>
        </link>  -->
    

  <!-- wheels   -->

  <!-- <link
    name="link_right_wheel">
    <inertial>
      <origin
        xyz="-0.024898 2.5665E-18 0"
        rpy="0 0 0" />
      <mass
        value="1.0523" />
      <inertia
        ixx="0.0033125"
        ixy="1.5953E-19"
        ixz="1.2287E-20"
        iyy="0.0018066"
        iyz="2.5666E-19"
        izz="0.0018066" />
    </inertial>
    <visual>
      <origin
        xyz="0 0 0"
        rpy="0 0 0" />
      <geometry>
        <mesh
          filename="meshes/link_right_wheel.STL" />
      </geometry>

    </visual>
    <collision>
      <origin
        xyz="0 0 0"
        rpy="0 0 0" />
      <geometry>
        <mesh
          filename="meshes/link_right_wheel.STL" />
      </geometry>
    </collision>
  </link>
  <joint
    name="joint_right_wheel"
    type="continuous">
    <origin
      xyz="-0.148 0.015574 -0.153"
      rpy="0 0 0" />
    <parent
      link="base_link_underpan" />
    <child
      link="link_right_wheel" />
    <axis
      xyz="1 0 0" />
    <limit
      effort="100"
      velocity="10" />
  </joint>
  <link
    name="link_left_wheel">
    <inertial>
      <origin
        xyz="0.025224 -8.8034E-15 0"
        rpy="0 0 0" />
      <mass
        value="1.0734" />
      <inertia
        ixx="0.0033996"
        ixy="-5.0277E-16"
        ixz="9.2981E-21"
        iyy="0.0019593"
        iyz="3.7534E-19"
        izz="0.0019593" />
    </inertial>
    <visual>
      <origin
        xyz="0 0 0"
        rpy="0 0 0" />
      <geometry>
        <mesh
          filename="meshes/link_left_wheel.STL" />
      </geometry>

    </visual>
    <collision>
      <origin
        xyz="0 0 0"
        rpy="0 0 0" />
      <geometry>
        <mesh
          filename="meshes/link_left_wheel.STL" />
      </geometry>
    </collision>
  </link>
  <joint
    name="joint_left_wheel"
    type="continuous">
    <origin
      xyz="0.148 0.015574 -0.153"
      rpy="0 0 0" />
    <parent
      link="base_link_underpan" />
    <child
      link="link_left_wheel" />
    <axis
      xyz="-1 0 0" />
    <limit
      effort="100"
      velocity="10" />
  </joint>
  <link
    name="link_swivel_wheel_1_1">
    <inertial>
      <origin
        xyz="0.00067987 -0.0050012 -0.013414"
        rpy="0 0 0" />
      <mass
        value="0.088835" />
      <inertia
        ixx="3.1679E-05"
        ixy="2.0129E-08"
        ixz="2.7021E-08"
        iyy="3.9438E-05"
        iyz="-3.2776E-06"
        izz="4.6143E-05" />
    </inertial>
    <visual>
      <origin
        xyz="0 0 0"
        rpy="0 0 0" />
      <geometry>
        <mesh
          filename="meshes/link_swivel_wheel_1_1.STL" />
      </geometry>

    </visual>
    <collision>
      <origin
        xyz="0 0 0"
        rpy="0 0 0" />
      <geometry>
        <mesh
          filename="meshes/link_swivel_wheel_1_1.STL" />
      </geometry>
    </collision>
  </link>
  <joint
    name="joint_swivel_wheel_1_1"
    type="continuous">
    <origin
      xyz="0.124 -0.17843 -0.16254"
      rpy="0 0 0" />
    <parent
      link="base_link_underpan" />
    <child
      link="link_swivel_wheel_1_1" />
    <axis
      xyz="0 0 1" />
  </joint>
  <link
    name="link_swivel_wheel_1_2">
    <inertial>
      <origin
        xyz="0.0010651 2.2204E-16 9.4369E-16"
        rpy="0 0 0" />
      <mass
        value="0.12664" />
      <inertia
        ixx="0.00011169"
        ixy="1.1345E-14"
        ixz="2.2064E-14"
        iyy="6.0838E-05"
        iyz="1.7051E-09"
        izz="6.084E-05" />
    </inertial>
    <visual>
      <origin
        xyz="0 0 0"
        rpy="0 0 0" />
      <geometry>
        <mesh
          filename="meshes/link_swivel_wheel_1_2.STL" />
      </geometry>

    </visual>
    <collision>
      <origin
        xyz="0 0 0"
        rpy="0 0 0" />
      <geometry>
        <mesh
          filename="meshes/link_swivel_wheel_1_2.STL" />
      </geometry>
    </collision>
  </link>
  <joint
    name="joint_swivel_wheel_1_2"
    type="continuous">
    <origin
      xyz="-0.0035 -0.022 -0.04516"
      rpy="0 0 0" />
    <parent
      link="link_swivel_wheel_1_1" />
    <child
      link="link_swivel_wheel_1_2" />
    <axis
      xyz="1 0 0" />
  </joint>
  <link
    name="link_swivel_wheel_2_1">
    <inertial>
      <origin
        xyz="0.00067987 -0.0050012 -0.013414"
        rpy="0 0 0" />
      <mass
        value="0.088835" />
      <inertia
        ixx="3.1679E-05"
        ixy="2.0129E-08"
        ixz="2.7021E-08"
        iyy="3.9438E-05"
        iyz="-3.2776E-06"
        izz="4.6143E-05" />
    </inertial>
    <visual>
      <origin
        xyz="0 0 0"
        rpy="0 0 0" />
      <geometry>
        <mesh
          filename="meshes/link_swivel_wheel_2_1.STL" />
      </geometry>

    </visual>
    <collision>
      <origin
        xyz="0 0 0"
        rpy="0 0 0" />
      <geometry>
        <mesh
          filename="meshes/link_swivel_wheel_2_1.STL" />
      </geometry>
    </collision>
  </link>
  <joint
    name="joint_swivel_wheel_2_1"
    type="continuous">
    <origin
      xyz="-0.126 0.22157 -0.16254"
      rpy="0 0 0" />
    <parent
      link="base_link_underpan" />
    <child
      link="link_swivel_wheel_2_1" />
    <axis
      xyz="0 0 1" />
  </joint>
  <link
    name="link_swivel_wheel_2_2">
    <inertial>
      <origin
        xyz="0.0010651 6.1062E-16 7.7716E-16"
        rpy="0 0 0" />
      <mass
        value="0.12664" />
      <inertia
        ixx="0.00011169"
        ixy="1.9869E-14"
        ixz="1.4856E-14"
        iyy="6.084E-05"
        iyz="2.0109E-09"
        izz="6.0838E-05" />
    </inertial>
    <visual>
      <origin
        xyz="0 0 0"
        rpy="0 0 0" />
      <geometry>
        <mesh
          filename="meshes/link_swivel_wheel_2_2.STL" />
      </geometry>

    </visual>
    <collision>
      <origin
        xyz="0 0 0"
        rpy="0 0 0" />
      <geometry>
        <mesh
          filename="meshes/link_swivel_wheel_2_2.STL" />
      </geometry>
    </collision>
  </link>
  <joint
    name="joint_swivel_wheel_2_2"
    type="continuous">
    <origin
      xyz="-0.0035 -0.022 -0.04516"
      rpy="0 0 0" />
    <parent
      link="link_swivel_wheel_2_1" />
    <child
      link="link_swivel_wheel_2_2" />
    <axis
      xyz="1 0 0" />
  </joint>
  <link
    name="link_swivel_wheel_3_1">
    <inertial>
      <origin
        xyz="0.00067987 -0.0050012 -0.013414"
        rpy="0 0 0" />
      <mass
        value="0.088835" />
      <inertia
        ixx="3.1679E-05"
        ixy="2.0129E-08"
        ixz="2.7021E-08"
        iyy="3.9438E-05"
        iyz="-3.2776E-06"
        izz="4.6143E-05" />
    </inertial>
    <visual>
      <origin
        xyz="0 0 0"
        rpy="0 0 0" />
      <geometry>
        <mesh
          filename="meshes/link_swivel_wheel_3_1.STL" />
      </geometry>

    </visual>
    <collision>
      <origin
        xyz="0 0 0"
        rpy="0 0 0" />
      <geometry>
        <mesh
          filename="meshes/link_swivel_wheel_3_1.STL" />
      </geometry>
    </collision>
  </link>
  <joint
    name="joint_swivel_wheel_3_1"
    type="continuous">
    <origin
      xyz="0.124 0.22157 -0.16254"
      rpy="0 0 0" />
    <parent
      link="base_link_underpan" />
    <child
      link="link_swivel_wheel_3_1" />
    <axis
      xyz="0 0 1" />
  </joint>
  <link
    name="link_swivel_wheel_3_2">
    <inertial>
      <origin
        xyz="0.0010651 -3.3307E-16 8.8818E-16"
        rpy="0 0 0" />
      <mass
        value="0.12664" />
      <inertia
        ixx="0.00011169"
        ixy="-1.8513E-15"
        ixz="2.474E-14"
        iyy="6.0837E-05"
        iyz="-3.1204E-10"
        izz="6.0841E-05" />
    </inertial>
    <visual>
      <origin
        xyz="0 0 0"
        rpy="0 0 0" />
      <geometry>
        <mesh
          filename="meshes/link_swivel_wheel_3_2.STL" />
      </geometry>

    </visual>
    <collision>
      <origin
        xyz="0 0 0"
        rpy="0 0 0" />
      <geometry>
        <mesh
          filename="meshes/link_swivel_wheel_3_2.STL" />
      </geometry>
    </collision>
  </link>
  <joint
    name="joint_swivel_wheel_3_2"
    type="continuous">
    <origin
      xyz="-0.0035 -0.022 -0.04516"
      rpy="0 0 0" />
    <parent
      link="link_swivel_wheel_3_1" />
    <child
      link="link_swivel_wheel_3_2" />
    <axis
      xyz="1 0 0" />
  </joint>
  <link
    name="link_swivel_wheel_4_1">
    <inertial>
      <origin
        xyz="0.00067987 -0.0050012 -0.0094542"
        rpy="0 0 0" />
      <mass
        value="0.088835" />
      <inertia
        ixx="3.1679E-05"
        ixy="2.0129E-08"
        ixz="2.7021E-08"
        iyy="3.9438E-05"
        iyz="-3.2776E-06"
        izz="4.6143E-05" />
    </inertial>
    <visual>
      <origin
        xyz="0 0 0"
        rpy="0 0 0" />
      <geometry>
        <mesh
          filename="meshes/link_swivel_wheel_4_1.STL" />
      </geometry>

    </visual>
    <collision>
      <origin
        xyz="0 0 0"
        rpy="0 0 0" />
      <geometry>
        <mesh
          filename="meshes/link_swivel_wheel_4_1.STL" />
      </geometry>
    </collision>
  </link>
  <joint
    name="joint_swivel_wheel_4_1"
    type="continuous">
    <origin
      xyz="-0.126 -0.17843 -0.1665"
      rpy="0 0 0" />
    <parent
      link="base_link_underpan" />
    <child
      link="link_swivel_wheel_4_1" />
    <axis
      xyz="0 0 1" />
  </joint>
  <link
    name="link_swivel_wheel_4_2">
    <inertial>
      <origin
        xyz="0.0010651 -4.996E-16 7.494E-16"
        rpy="0 0 0" />
      <mass
        value="0.12664" />
      <inertia
        ixx="0.00011169"
        ixy="-7.4776E-15"
        ixz="2.3656E-14"
        iyy="6.0837E-05"
        iyz="-1.205E-09"
        izz="6.0841E-05" />
    </inertial>
    <visual>
      <origin
        xyz="0 0 0"
        rpy="0 0 0" />
      <geometry>
        <mesh
          filename="meshes/link_swivel_wheel_4_2.STL" />
      </geometry>

    </visual>
    <collision>
      <origin
        xyz="0 0 0"
        rpy="0 0 0" />
      <geometry>
        <mesh
          filename="meshes/link_swivel_wheel_4_2.STL" />
      </geometry>
    </collision>
  </link>
  <joint
    name="joint_swivel_wheel_4_2"
    type="continuous">
    <origin
      xyz="-0.0035 -0.022 -0.0412"
      rpy="0 0 0" />
    <parent
      link="link_swivel_wheel_4_1" />
    <child
      link="link_swivel_wheel_4_2" />
    <axis
      xyz="1 0 0" />
  </joint> -->

</robot>
